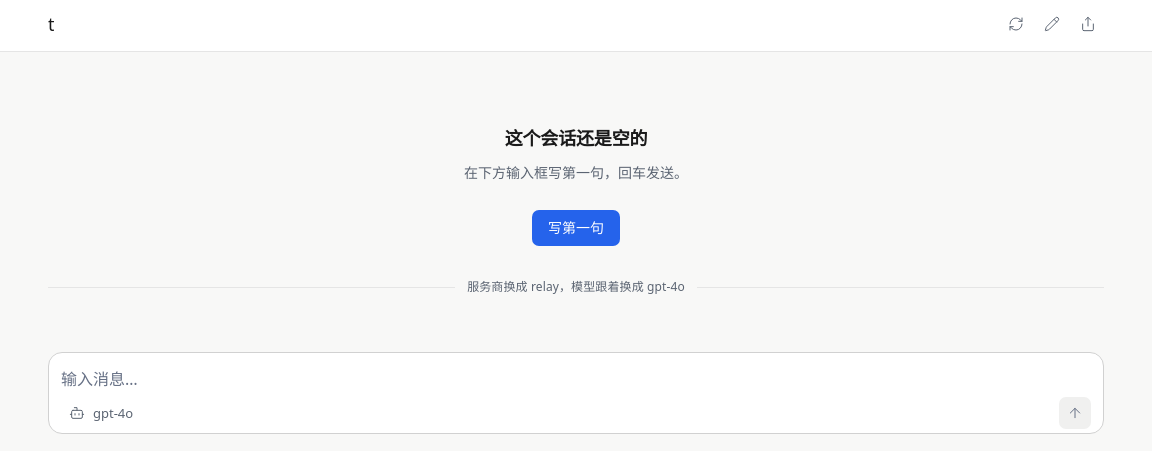
ChatArea · 模型回落痕迹（任务 17） › 激活换人且模型不在新清单 → 消息区出现回落痕迹；发送后消失
The image size is (1152, 451).
发一条 → 痕迹只留到下一轮
In the text box with placeholder "输入消息…": (576, 373) x1=49 y1=353 x2=1103 y2=393, type "你好"
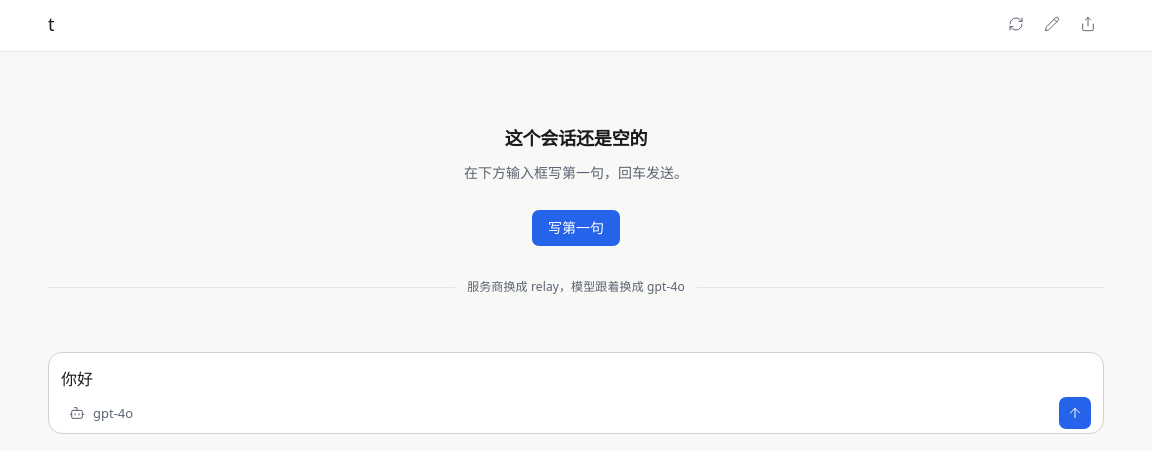
Press Enter in the text box, box x1=49 y1=353 x2=1103 y2=393
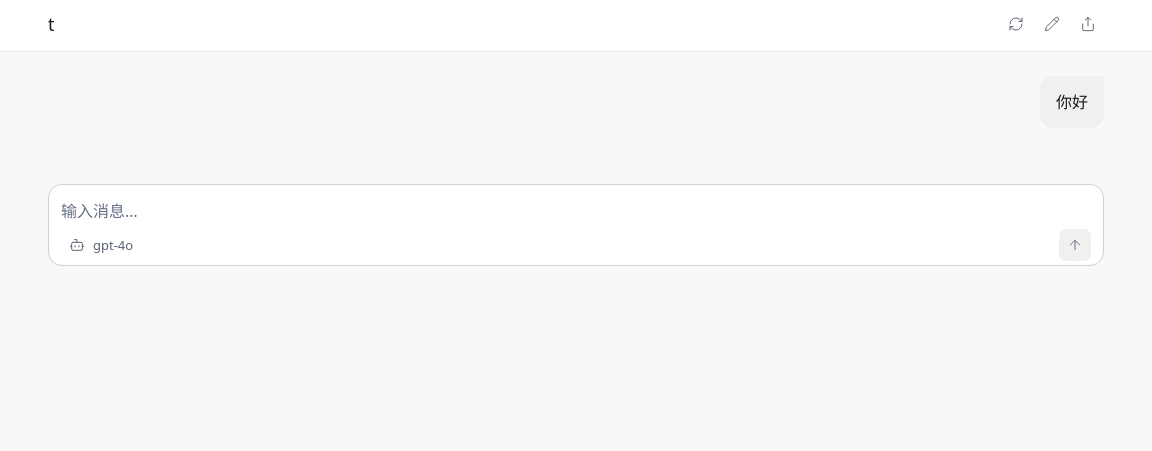
expect the text "服务商换成 relay" is gone: met
